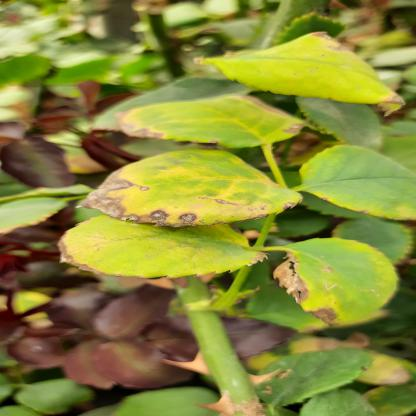black-spot: (78, 151, 320, 228), (203, 27, 410, 112), (48, 218, 275, 277), (109, 92, 313, 150), (298, 138, 415, 218), (283, 243, 394, 324)
